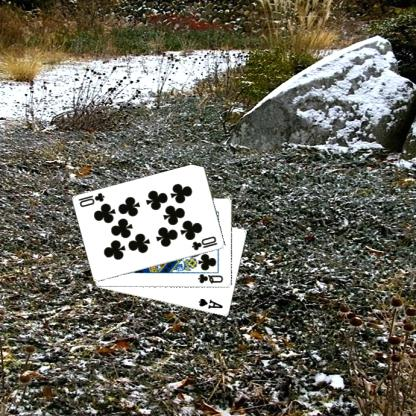10C: (78, 190, 108, 209), (191, 234, 221, 252)
AS: (198, 296, 226, 311)
QC: (197, 272, 226, 284)
